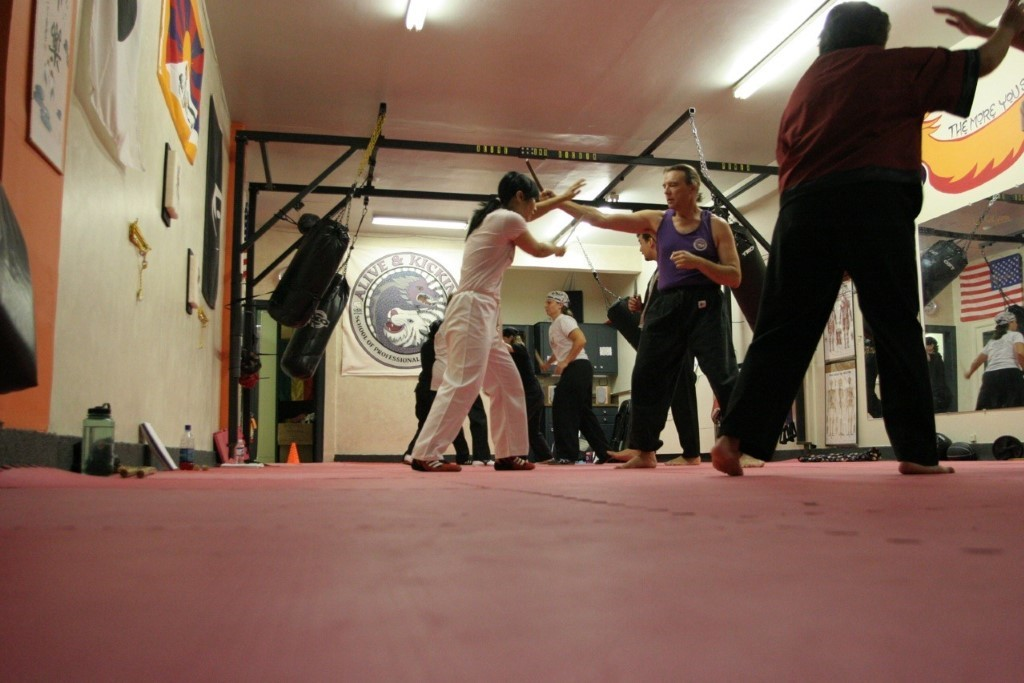baston_e: (560, 218, 582, 246), (526, 162, 544, 189)
baston_v: (522, 156, 532, 163)
